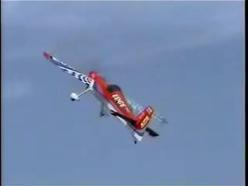aircraft: (42, 51, 162, 143)
